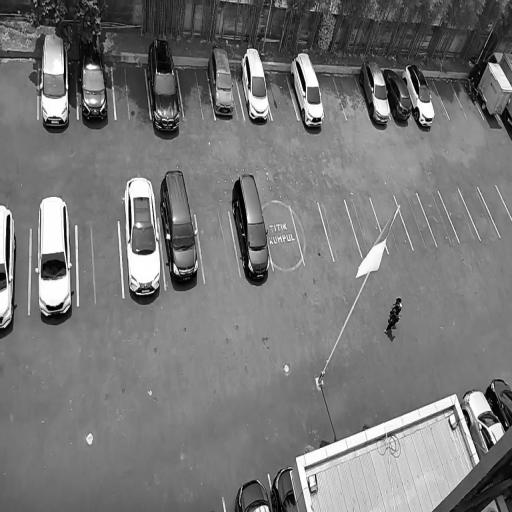Car: (225, 166, 278, 288), (121, 167, 164, 316), (32, 190, 75, 326), (159, 155, 203, 286), (142, 33, 184, 141), (37, 28, 73, 138), (287, 46, 332, 134), (457, 382, 506, 460), (77, 34, 112, 132), (0, 197, 24, 337), (235, 42, 274, 123), (353, 56, 396, 129), (205, 44, 242, 125), (467, 58, 512, 122), (400, 61, 439, 128), (382, 66, 415, 122), (482, 375, 512, 433), (269, 466, 299, 512), (232, 478, 271, 512)
Space Available: (76, 219, 124, 305), (196, 211, 241, 282), (262, 204, 305, 272), (289, 202, 333, 265), (318, 200, 362, 262), (346, 196, 389, 257), (395, 190, 436, 251), (371, 195, 414, 253), (417, 190, 460, 247), (438, 188, 480, 243), (176, 60, 214, 120), (112, 60, 151, 118), (458, 187, 500, 240), (264, 65, 298, 120), (478, 185, 511, 237), (334, 73, 368, 119), (433, 78, 467, 120), (316, 72, 346, 119), (425, 77, 449, 120)
